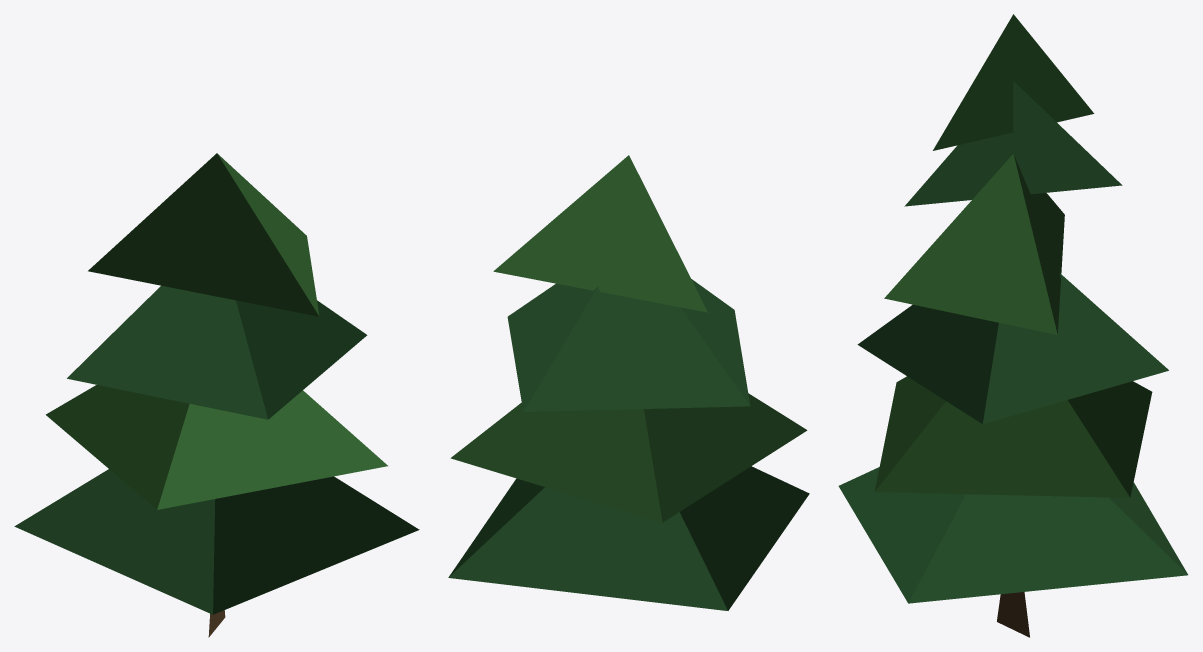
File: tree_pine_2_lod2.glb
3 renders of one model, left to right at view 1: azimuth 30°, elevation 25°; view 2: azimuth 150°, elevation 25°; view 3: azimuth 270°, elevation 25°, orthographic.
Parts seen in each view (by area): view 1: tree_pine_2_lod2; view 2: tree_pine_2_lod2; view 3: tree_pine_2_lod2.
Boxes of the visible parts, x1,y1,x2,y2 form: tree_pine_2_lod2: [14, 153, 419, 637]; tree_pine_2_lod2: [448, 155, 809, 610]; tree_pine_2_lod2: [838, 14, 1187, 637].
Bounding box in the file's own units: 4.86 × 9.47 × 4.88.
